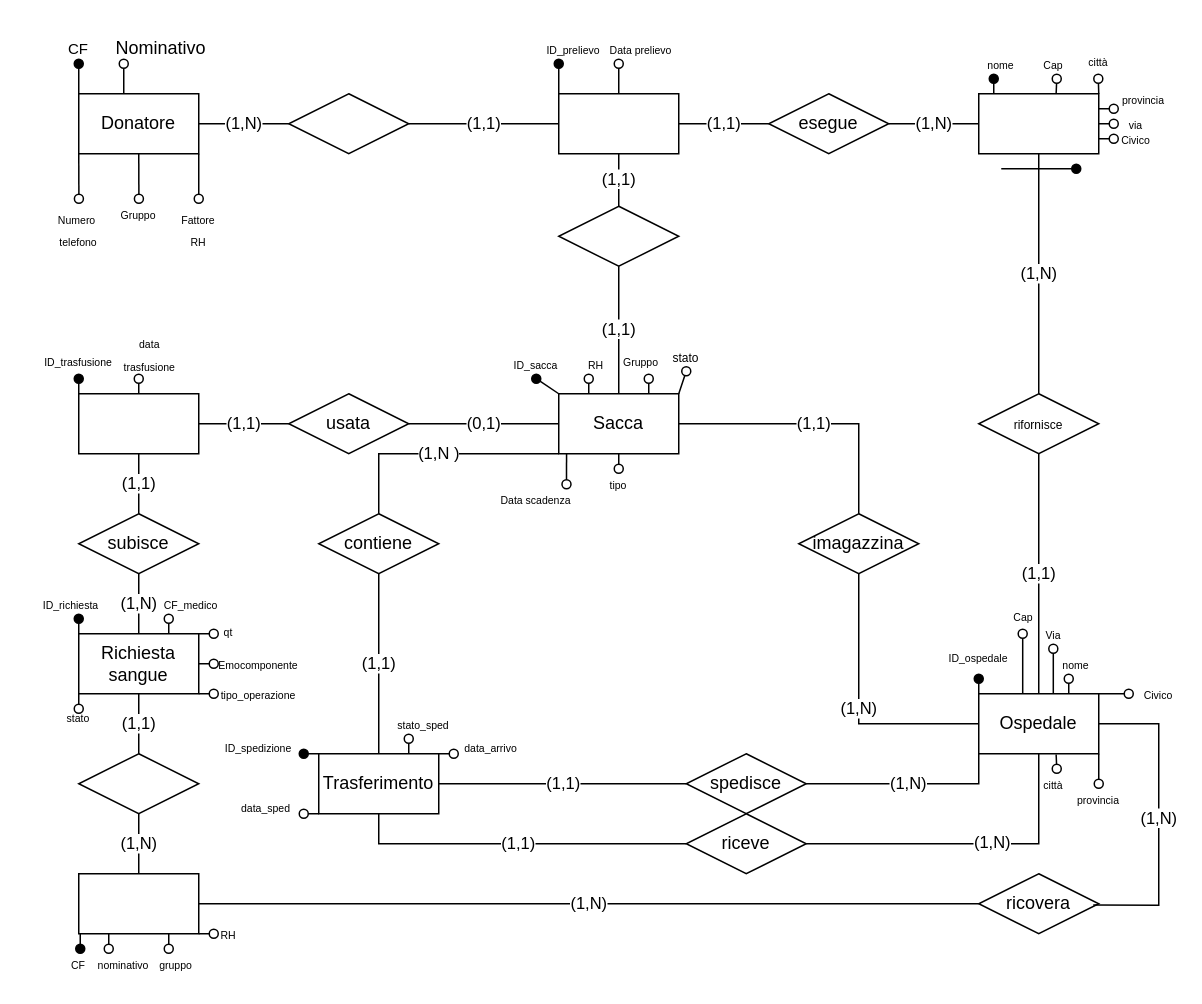
Image size: 1202x1004. Some labels were removed from this diagram. Here are the shapes that lost their labels. From the top down, the centre of each, then its label:
At (x=348, y=123): "dona".
At (x=618, y=123): "Prelievo".
At (x=1038, y=123): "Centro Prelievi".
At (x=618, y=235): "crea".
At (x=138, y=423): "Trasfusione".
At (x=138, y=783): "necessita".
At (x=138, y=903): "Paziente".
